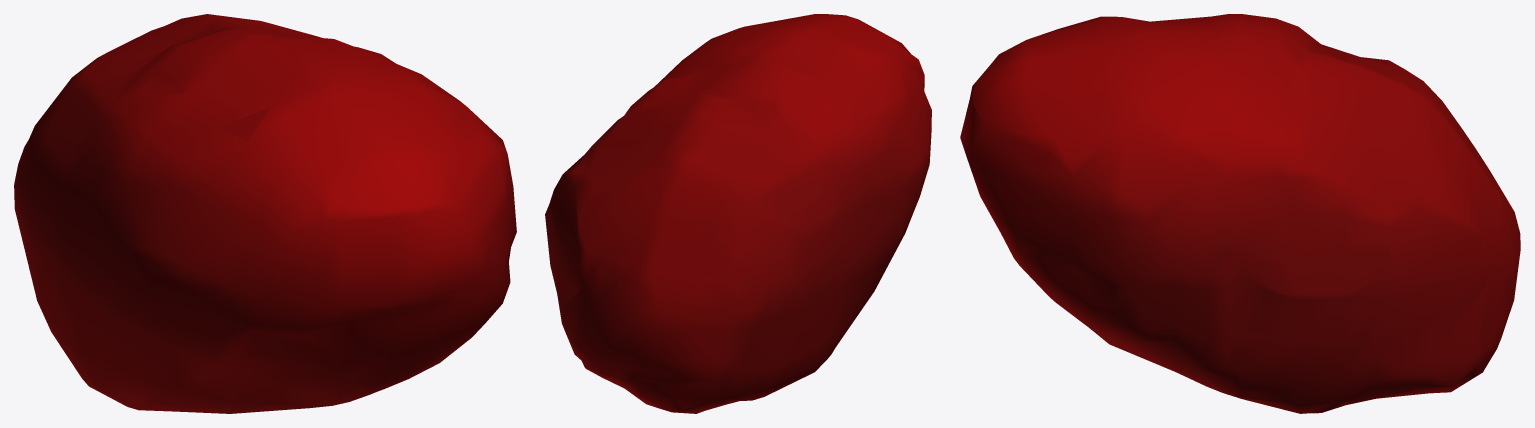
File: geology-rocks-rockmedium_v1.fbx
3 views of the same model, side by side, from view 1: azimuth 30°, elevation 25°; view 2: azimuth 150°, elevation 25°; view 3: azimuth 270°, elevation 25° (orthographic). The views are drawn at different scales.
Visible parts, largest first — view 1: RockMedium_v1; view 2: RockMedium_v1; view 3: RockMedium_v1.
Part boxes in pixels (left/top/right/bottom): RockMedium_v1: left=14, top=14, right=516, bottom=413; RockMedium_v1: left=545, top=14, right=931, bottom=413; RockMedium_v1: left=960, top=14, right=1520, bottom=413.
Size of the model in its own units: 2.82 by 2.71 by 4.02.
